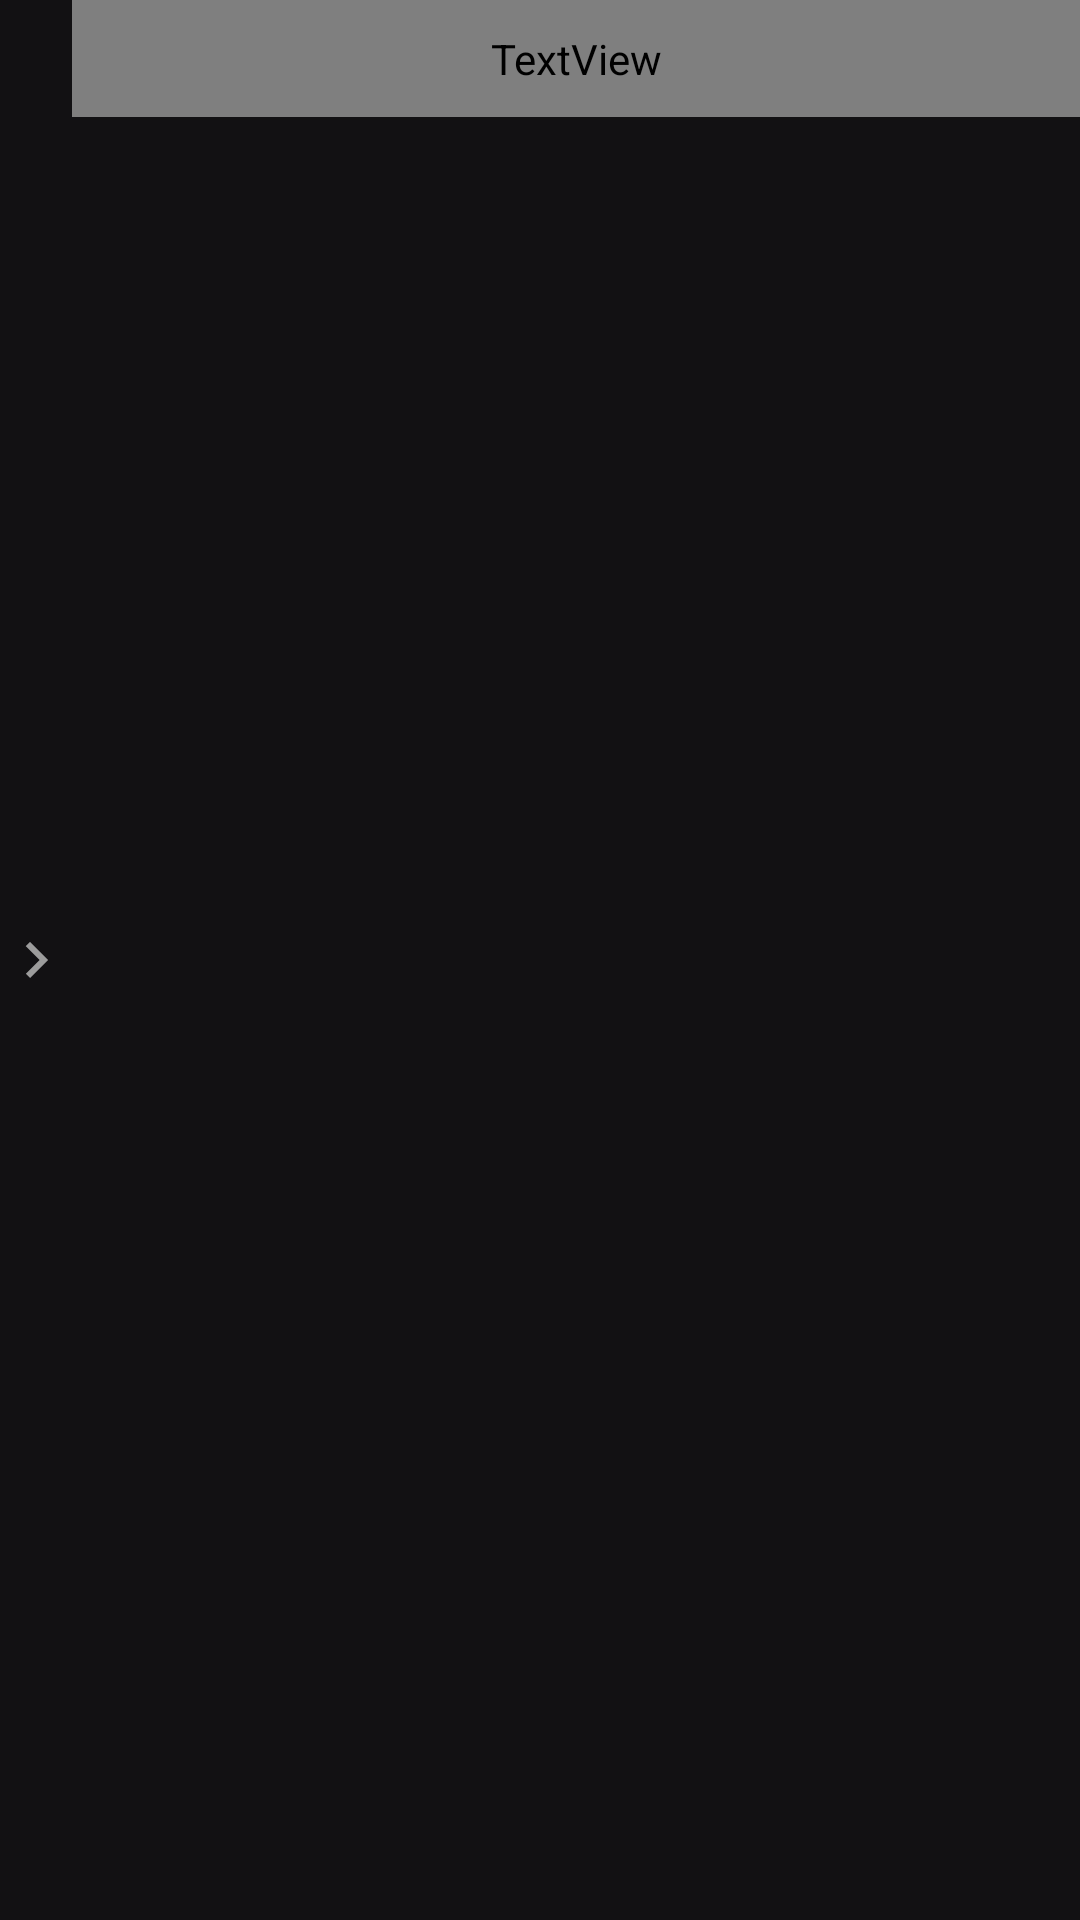

Icons on this 1080px×1920px Android screen, each with the point to tap as (x=x, y=y):
right arrow: (x=37, y=960)
